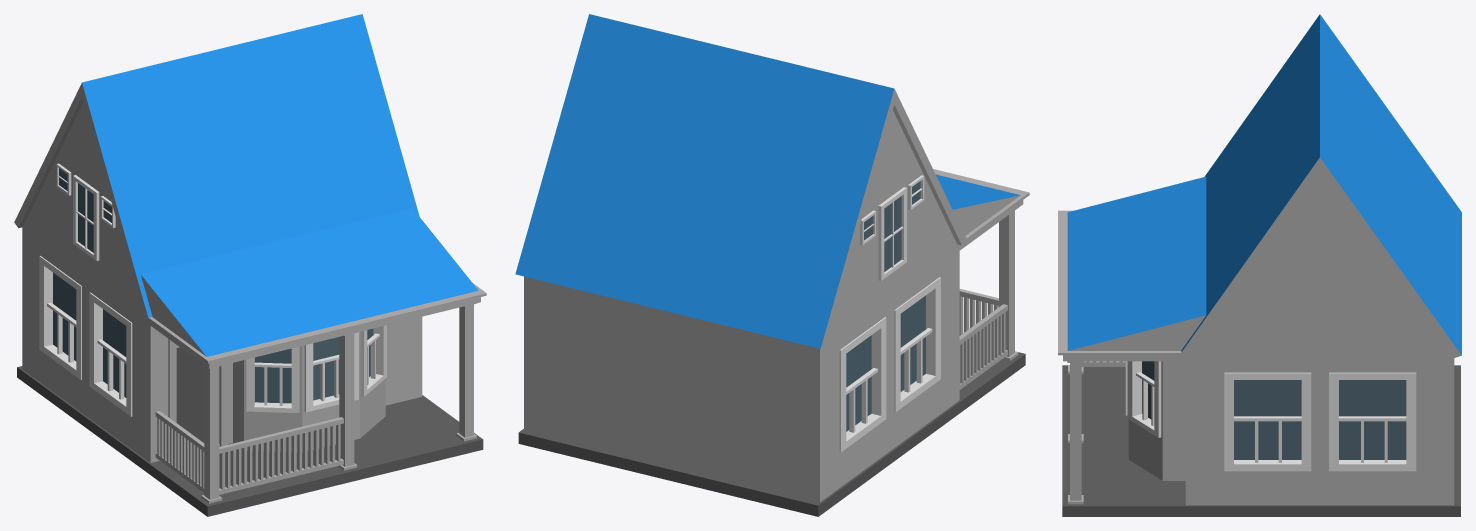
Rendered from house_008.glb.
3 renders of one model, left to right at view 1: azimuth 30°, elevation 25°; view 2: azimuth 150°, elevation 25°; view 3: azimuth 270°, elevation 25°, orthographic. The views are drawn at different scales.
Parts seen in each view (by area): view 1: house_008; view 2: house_008; view 3: house_008.
Boxes of the visible parts, bbox=[...] form: house_008: bbox=[14, 14, 486, 516]; house_008: bbox=[515, 14, 1029, 516]; house_008: bbox=[1058, 14, 1461, 516].
Bounding box in the file's own units: 6.34 × 7.44 × 7.55.
1 material, 1 textured.
